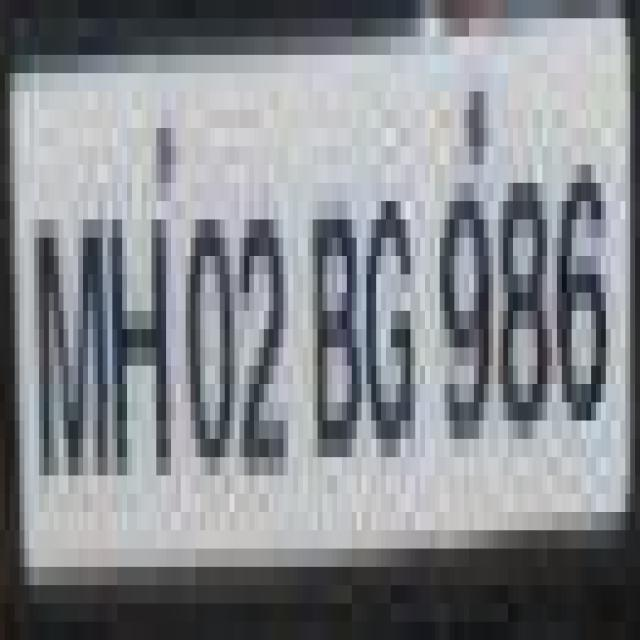license_plate: (24, 0, 640, 585)
